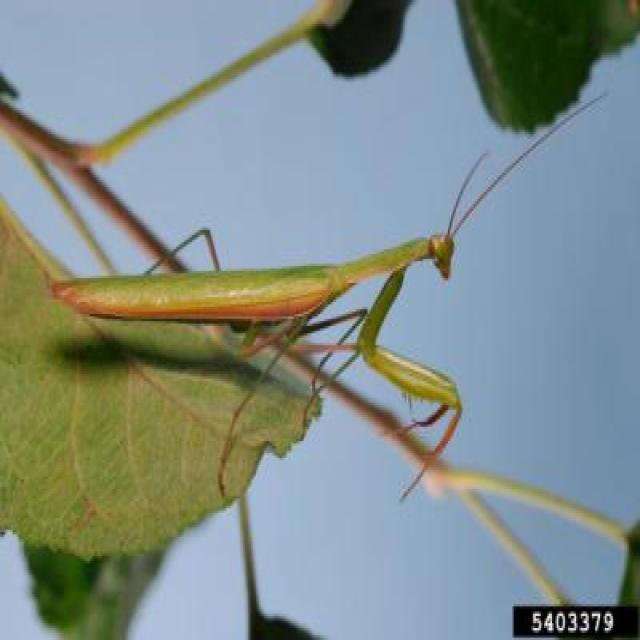antennae: (451, 91, 610, 239), (448, 151, 488, 237)
body: (55, 235, 454, 323)
insect: (50, 90, 619, 501)
legs: (361, 265, 464, 501), (223, 314, 314, 489), (360, 271, 456, 436), (279, 316, 365, 408), (304, 306, 367, 394), (140, 229, 223, 276)
mouthpart: (441, 265, 450, 284)
wings: (58, 267, 333, 317)
